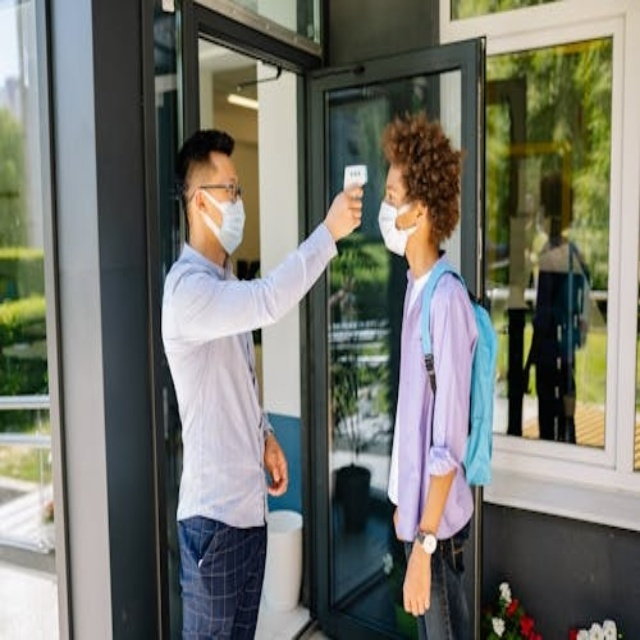Gafas: (192, 173, 243, 206)
Mascara: (198, 189, 246, 254), (378, 198, 420, 256), (531, 216, 549, 249)
Sin_gafas: (376, 181, 412, 209)
Sin_guantes: (400, 541, 433, 619), (263, 432, 288, 493)
